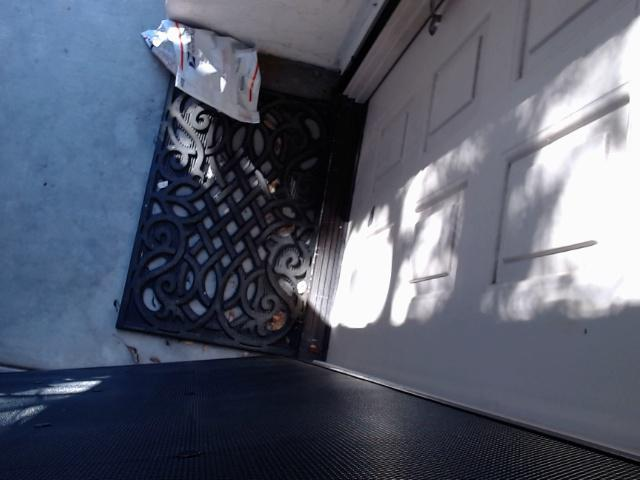plastic_bag: (140, 19, 261, 123)
